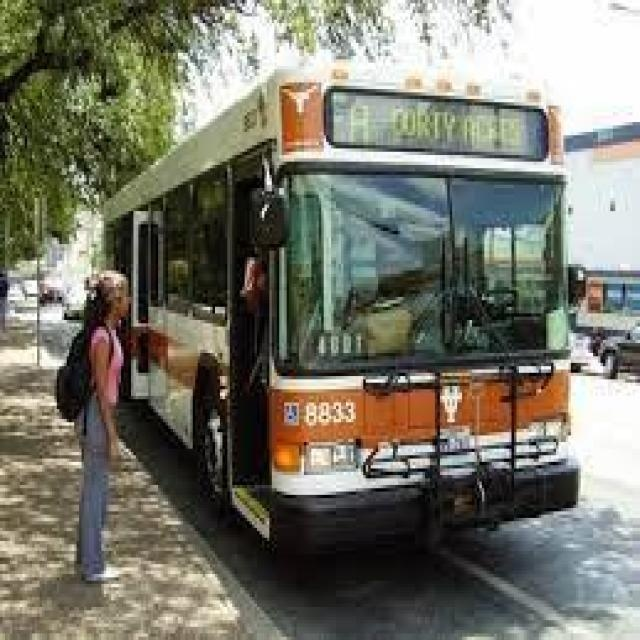Bus: (74, 46, 593, 568)
